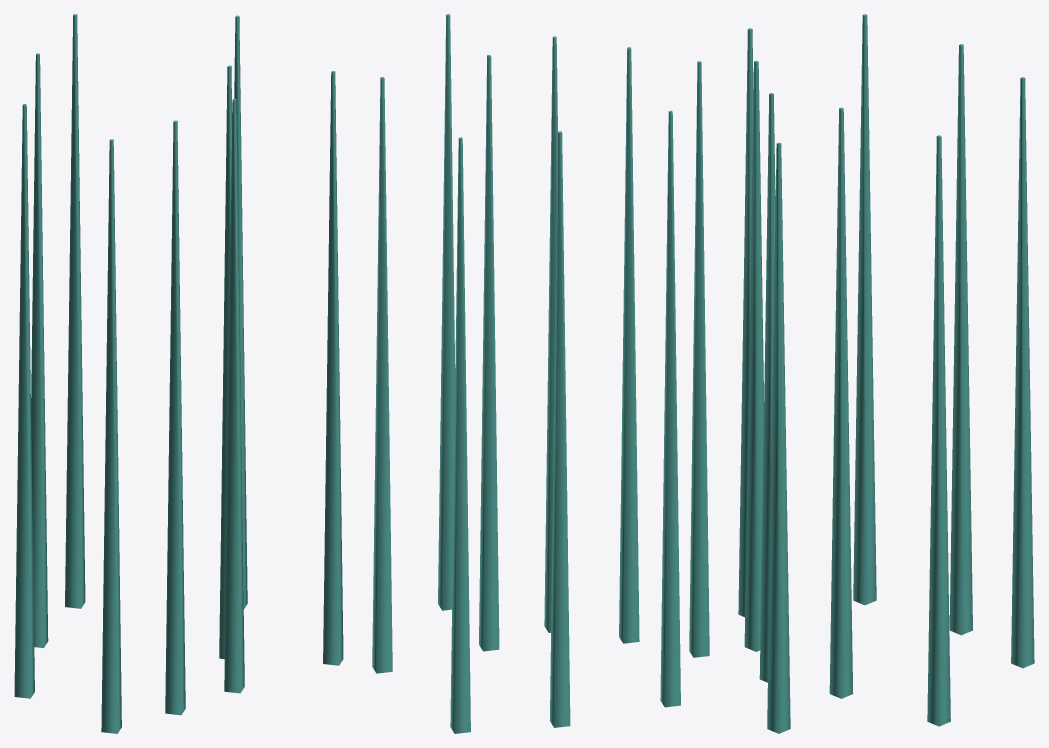
Rendered from reeds.glb.
3 renders of one model, left to right at view 1: azimuth 30°, elevation 25°; view 2: azimuth 150°, elevation 25°; view 3: azimuth 270°, elevation 25°, orthographic.
Parts seen in each view (by area): view 1: reeds; view 2: reeds; view 3: reeds.
Boxes of the visible parts, left/top/right/bottom form: reeds: left=14, top=14, right=343, bottom=733; reeds: left=372, top=14, right=709, bottom=733; reeds: left=738, top=14, right=1034, bottom=733.
Bounding box in the file's own units: 0.5576 × 1.1 × 0.5042.
